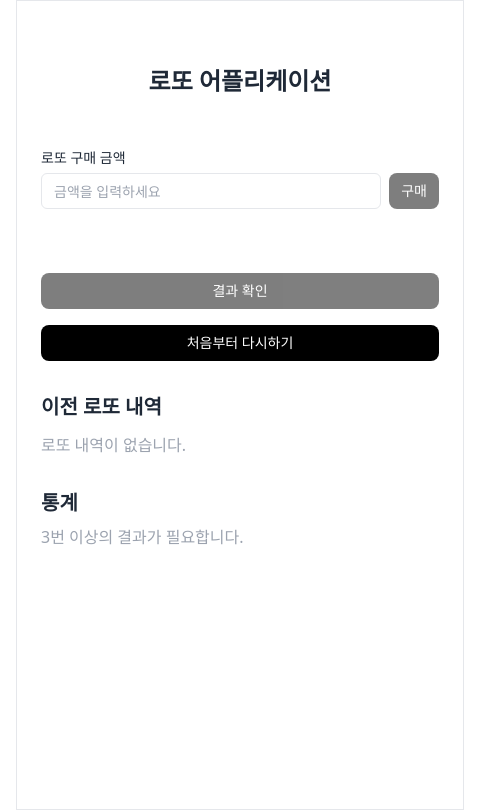
Test: 1.1. 로또 구매하기 › 로또는 1장에 1000원이며, 사용자가 1,000원으로 나누어 떨어지는 값을 입력하지 않은 경우에는 적절한 에러메시지를 보여줍니다.
Type "1001" into the field with test id "lotto-amount-input" at (211, 191), box [41,173,381,209]
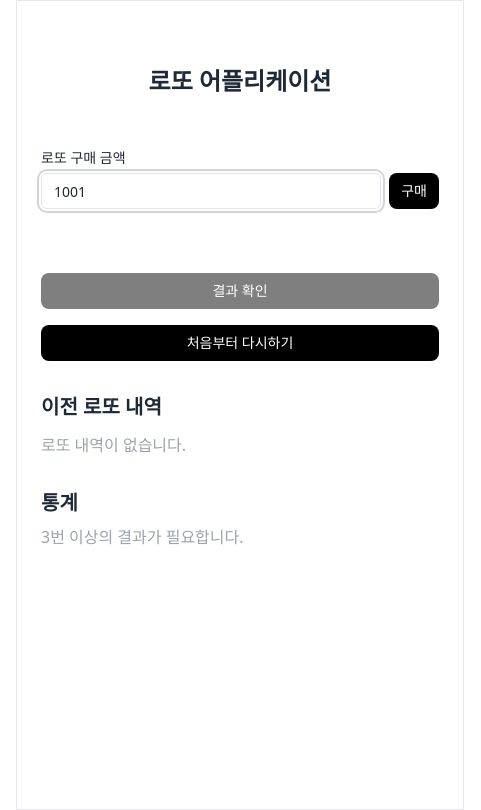
Click the button with test id "lotto-purchase-button" at (414, 191), box [389,173,439,209]
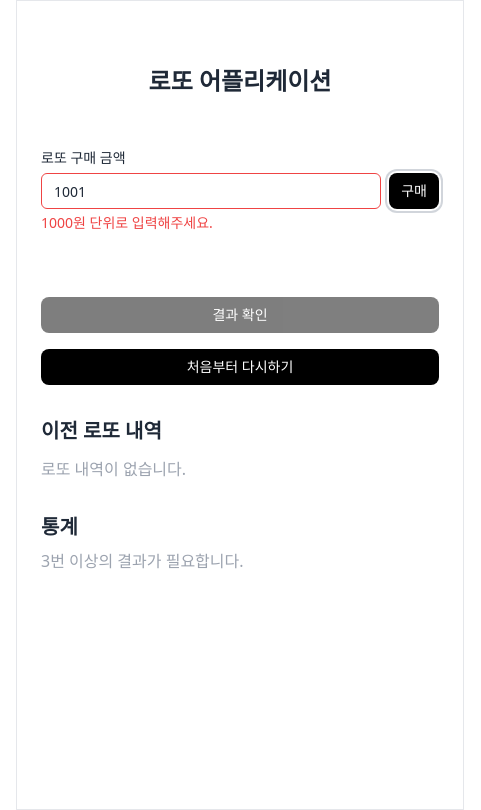
Result: the text "1000원 단위로 입력해주세요." is shown at [41,213,213,232]
Replace the text in the field with test id "lotto-amount-input" with "1000" at (211, 191), box [41,173,381,209]
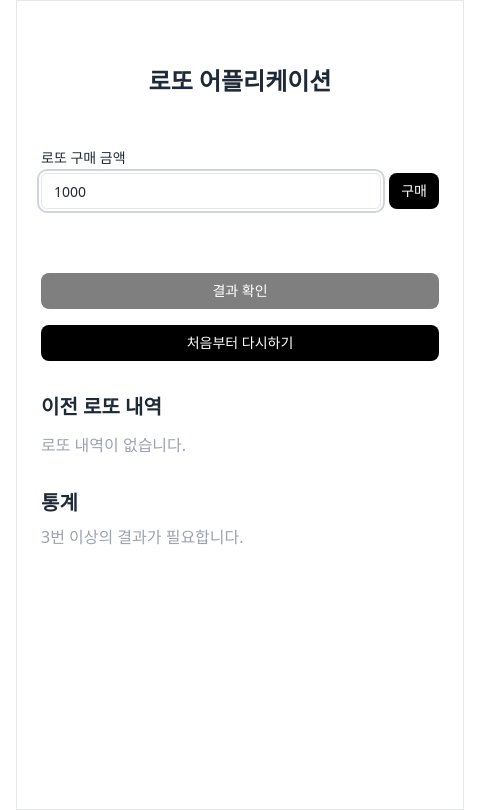
Click the button with test id "lotto-purchase-button" at (414, 191), box [389,173,439,209]
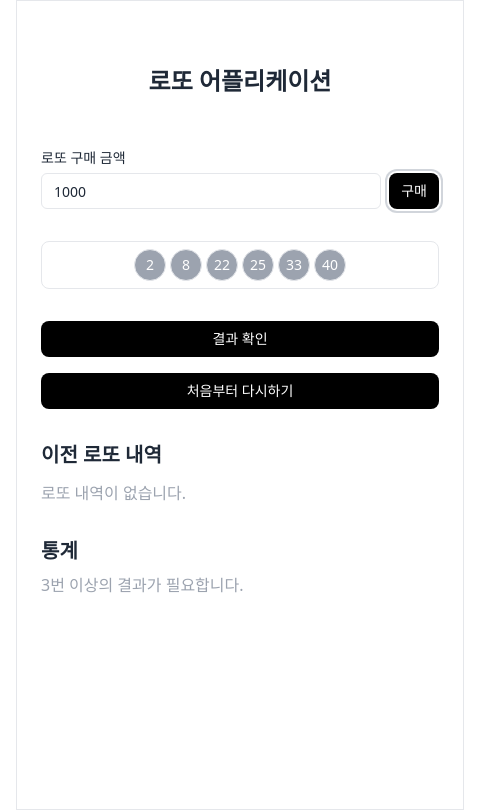
Result: the number of elements with test id "lotto-item" is 1 at [134,249,346,281]
